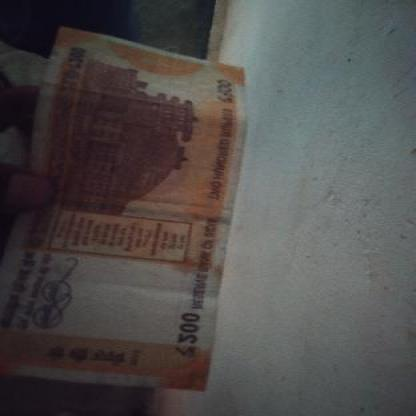New200Back: (0, 37, 248, 389)
